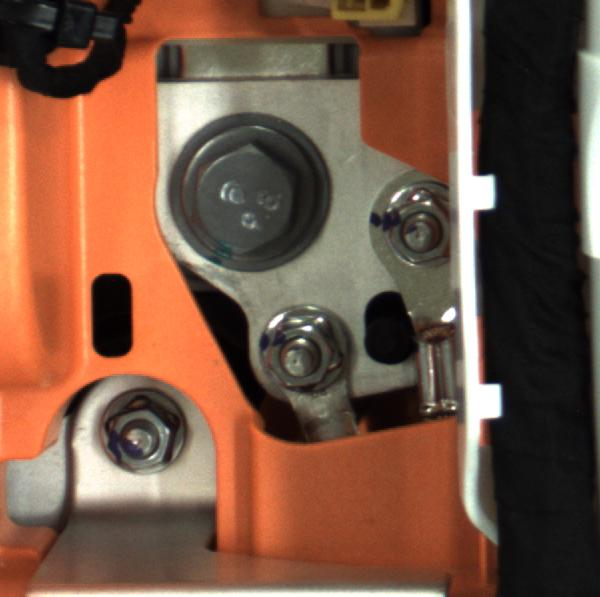nut_b: (150, 115, 325, 263)
screw_s: (250, 299, 358, 397), (87, 384, 196, 475), (378, 173, 461, 268)
